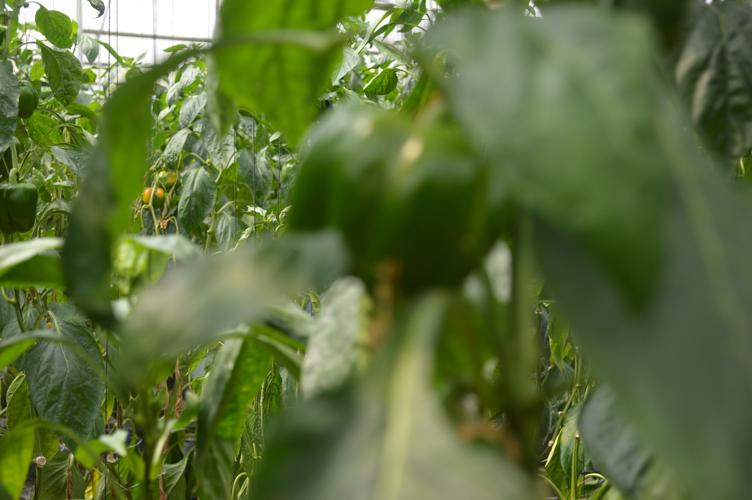BellPepper: (295, 101, 490, 299)
